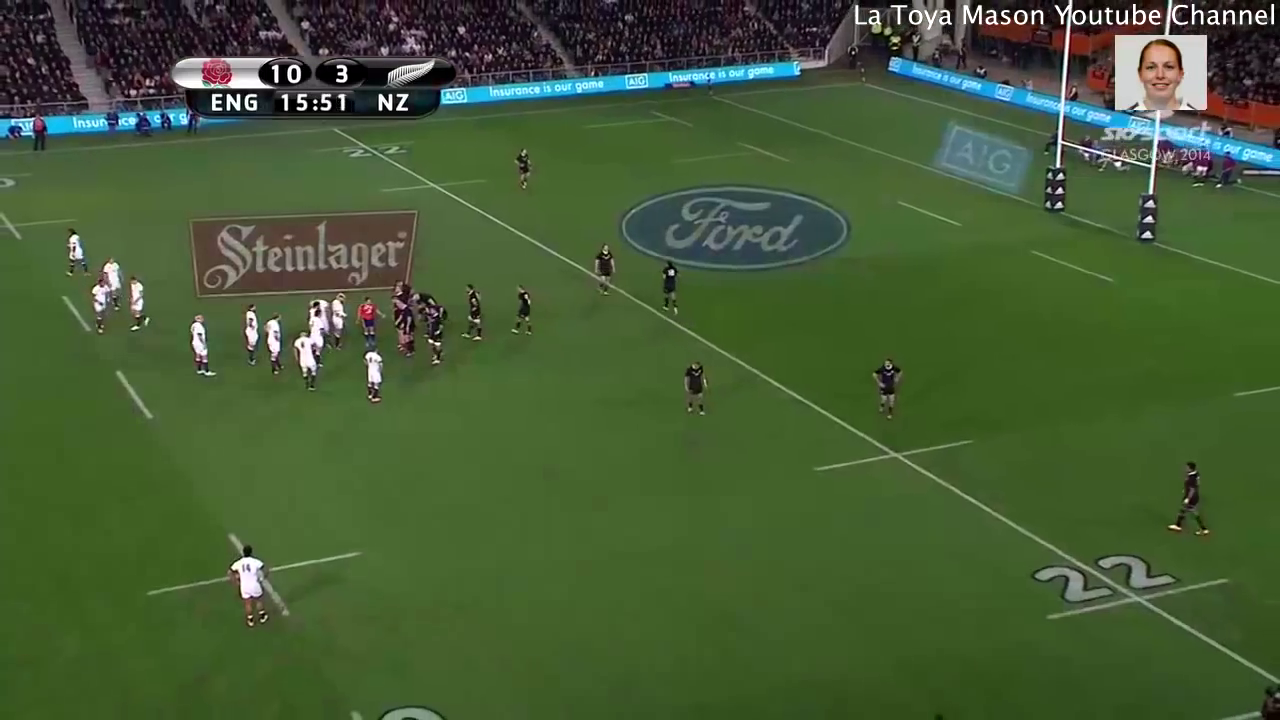10_metre: (142, 525, 369, 624)
player: (1165, 457, 1214, 542), (226, 540, 270, 632), (863, 354, 905, 423), (675, 355, 717, 423), (185, 311, 221, 380), (504, 280, 539, 343), (288, 328, 323, 391), (456, 276, 487, 347), (352, 293, 389, 351), (357, 344, 391, 405), (259, 309, 288, 380), (391, 300, 423, 361), (60, 224, 94, 281), (655, 256, 685, 320), (124, 273, 152, 334), (590, 239, 617, 302), (240, 300, 263, 370), (511, 145, 540, 200), (99, 254, 124, 314), (326, 289, 348, 352), (87, 275, 109, 337), (425, 306, 447, 367), (307, 308, 325, 350), (407, 289, 435, 315), (306, 291, 329, 319), (388, 276, 409, 300)
